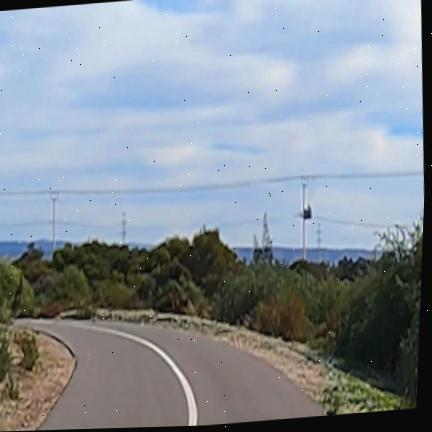Bike_Lane: (31, 320, 325, 430)
